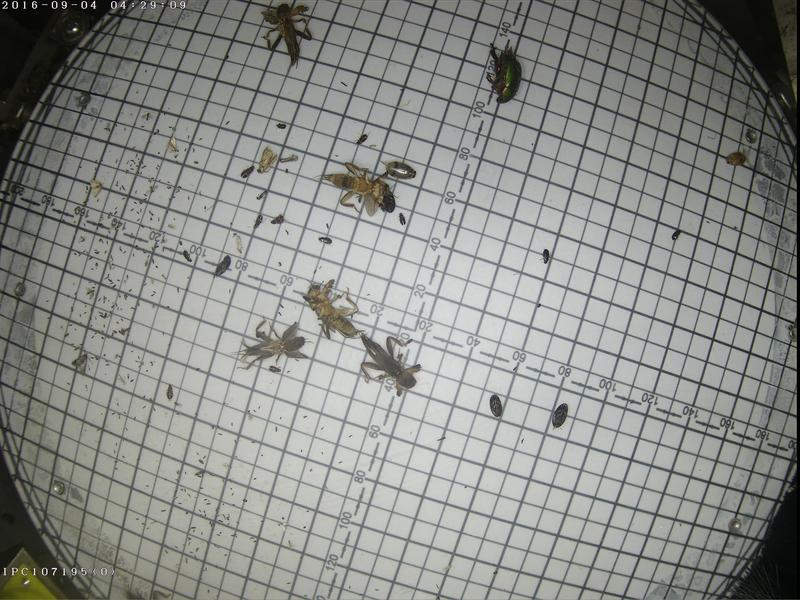Gryllotalpa orientalis: (307, 161, 399, 215), (220, 314, 308, 367), (354, 326, 421, 394), (299, 272, 365, 341), (257, 0, 319, 68)
